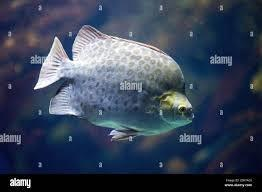Scat Fish: (36, 24, 198, 140)
